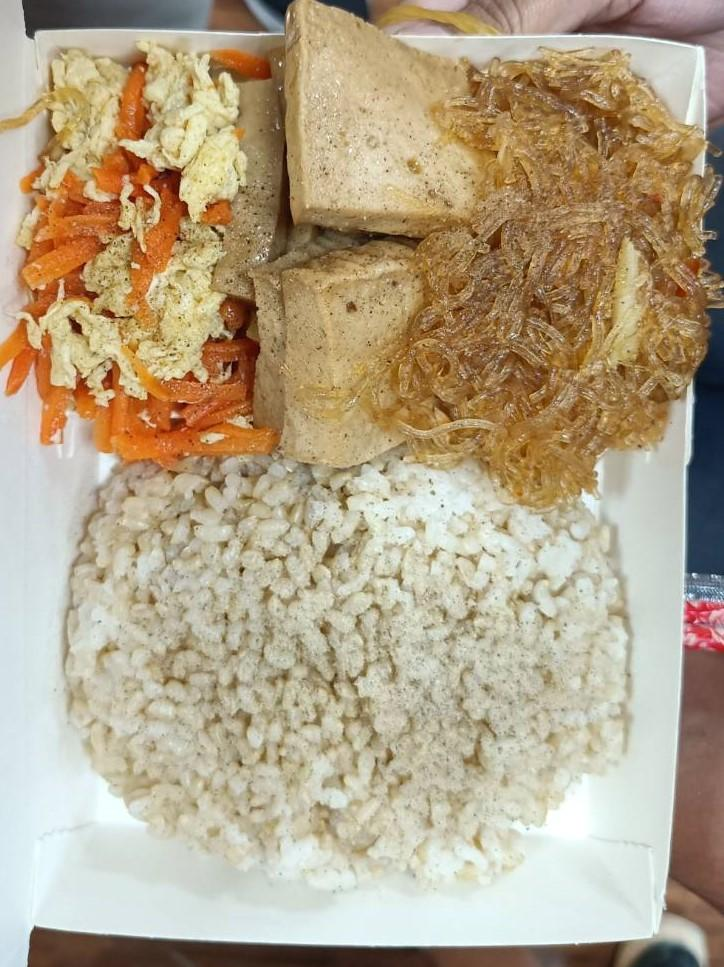big grilled chicken leg: (0, 12, 724, 967)
big herbal chicken leg: (64, 424, 649, 891)
braised fish fillet: (430, 34, 706, 496), (236, 4, 469, 464), (19, 36, 240, 452)
